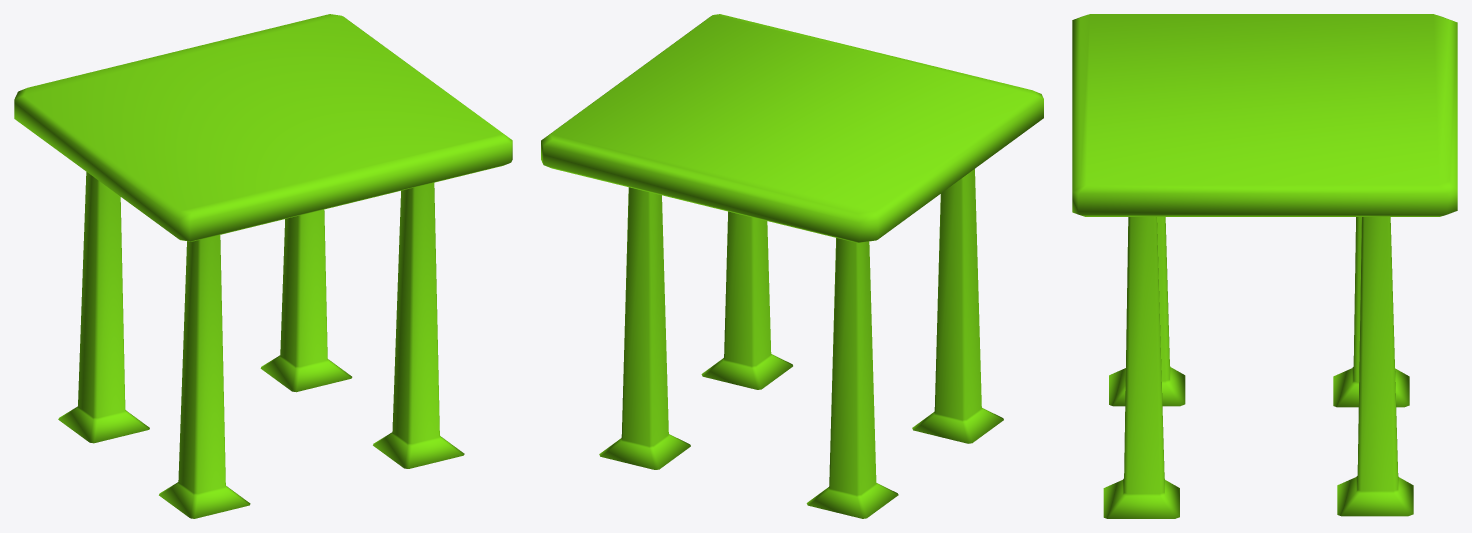
The model's file is MesinhaCozinha.fbx.
3 views of the same model, side by side, from view 1: azimuth 30°, elevation 25°; view 2: azimuth 150°, elevation 25°; view 3: azimuth 270°, elevation 25° (orthographic). The views are drawn at different scales.
Parts seen in each view (by area): view 1: Plane.002; view 2: Plane.002; view 3: Plane.002.
Part boxes in pixels (x1=…): Plane.002: x1=14, y1=14, x2=512, y2=518; Plane.002: x1=541, y1=14, x2=1043, y2=518; Plane.002: x1=1072, y1=14, x2=1457, y2=518.
Size of the model in its own units: 1076 by 990 by 990.
